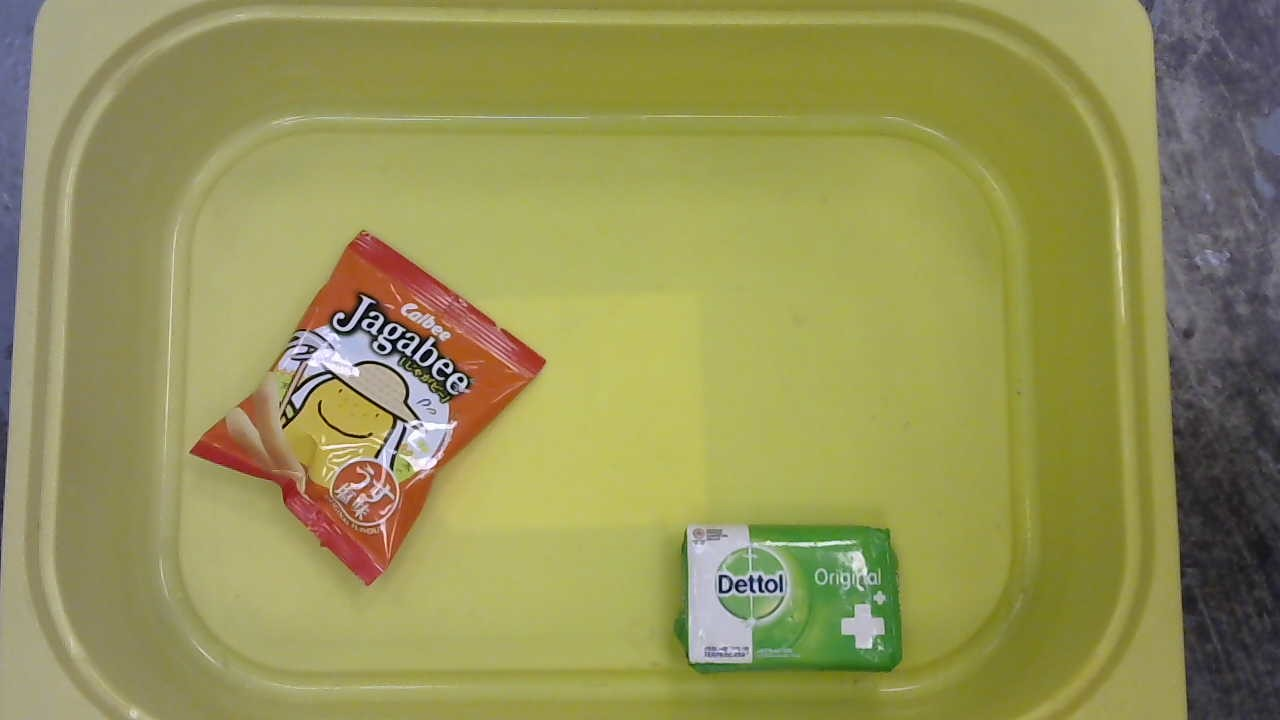Dettol: (673, 521, 904, 678)
JagabeeFarmer: (187, 227, 551, 600)
